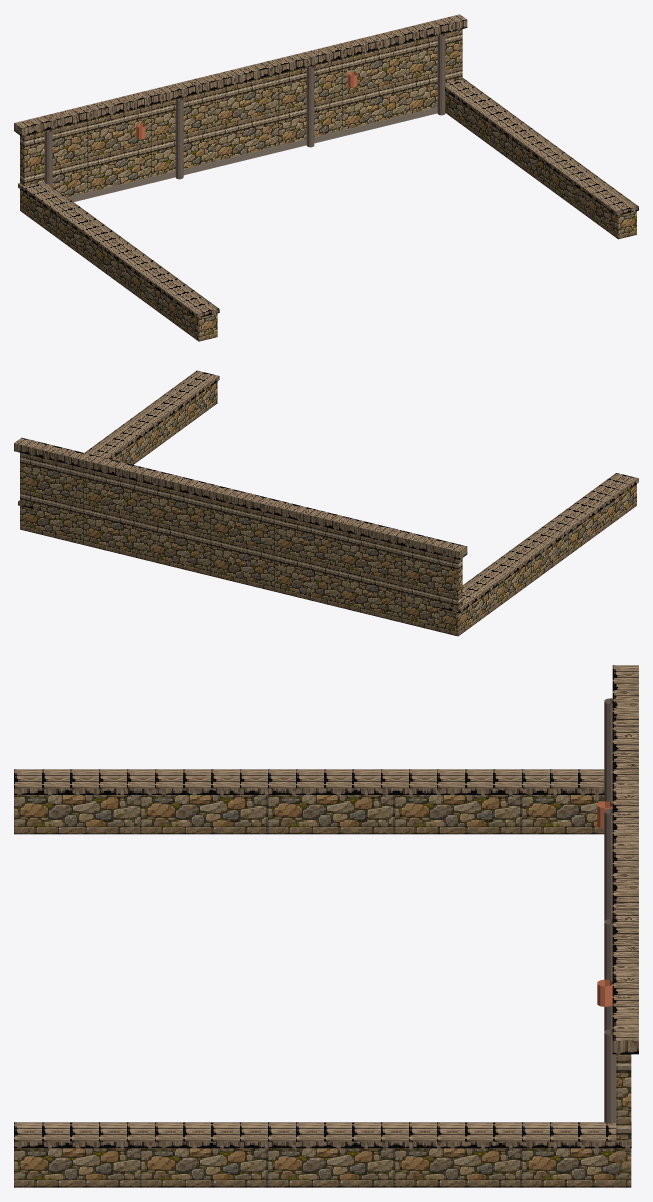
Rendered from rm_smith.glb.
The picture shows the model from 3 angles, top to bottom: view 1: azimuth 30°, elevation 25°; view 2: azimuth 150°, elevation 25°; view 3: azimuth 270°, elevation 25°; orthographic projection. The views are drawn at different scales.
Parts seen in each view (by area): view 1: wall, beam, side, post, trim; view 2: wall, beam, side; view 3: side, beam, post, wall.
Boxes of the visible parts, x1,y1,x2,y2 form: wall: (20,29,462,213); beam: (14,14,638,318); side: (20,91,636,341); post: (44,33,445,186); trim: (24,107,437,213); wall: (20,452,462,634); beam: (14,370,638,612); side: (20,381,636,636); side: (14,795,631,1187); beam: (14,665,638,1148); post: (604,698,616,1123); wall: (616,1054,631,1186).
Size of the model in its own units: 236 by 44.01 by 166.
6 materials, 3 textured.
